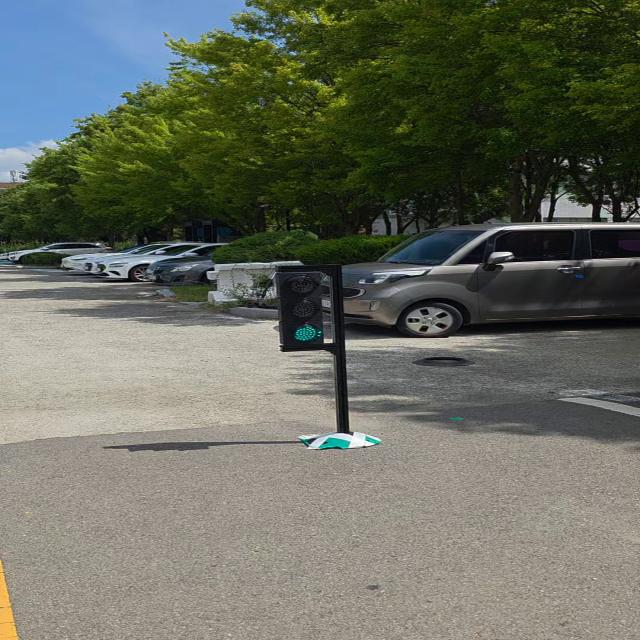green: (278, 270, 329, 349)
